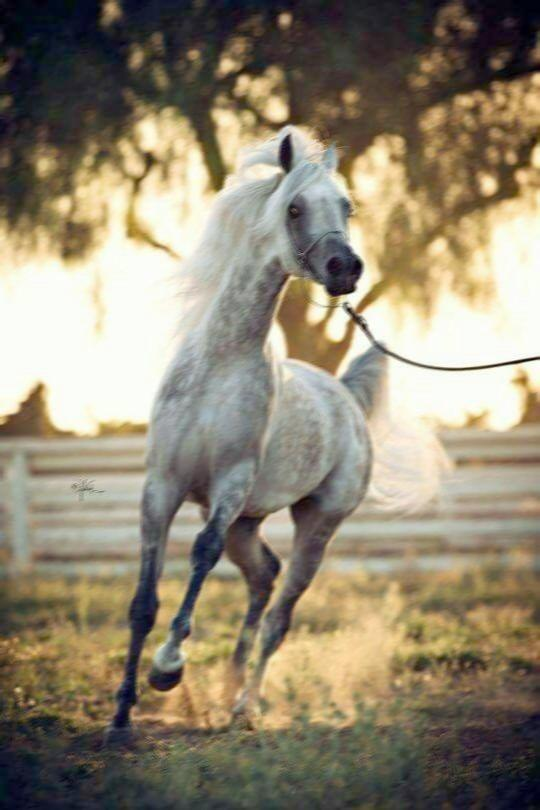horse: (102, 123, 454, 744)
